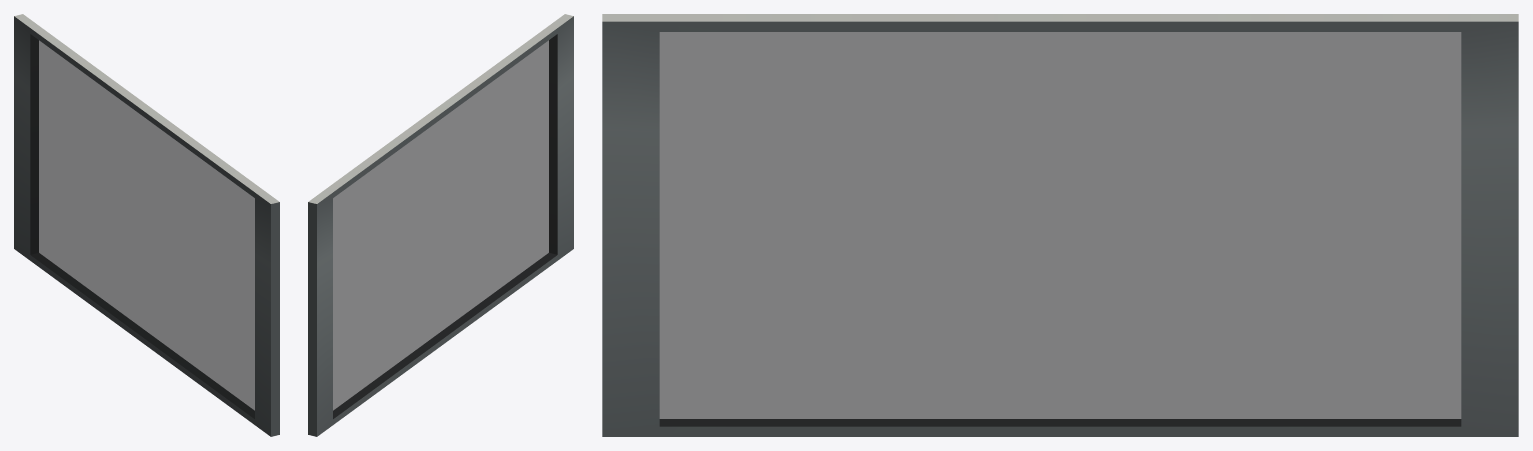
File: TSP_House_Rail_03B.fbx
The picture shows the model from 3 angles, left to right: view 1: azimuth 30°, elevation 25°; view 2: azimuth 150°, elevation 25°; view 3: azimuth 270°, elevation 25°; orthographic projection. The views are drawn at different scales.
Parts seen in each view (by area): view 1: TSP_House_Rail_03B; view 2: TSP_House_Rail_03B; view 3: TSP_House_Rail_03B.
Part boxes in pixels (box(x1,y1,x2,y2)): TSP_House_Rail_03B: box(14, 14, 279, 436); TSP_House_Rail_03B: box(308, 14, 573, 436); TSP_House_Rail_03B: box(602, 14, 1518, 436).
Size of the model in its own units: 0.04 by 1 by 2.
